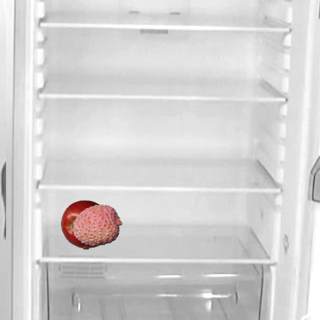Apple Braeburn: (60, 199, 110, 249)
Lychee: (72, 199, 122, 249)
